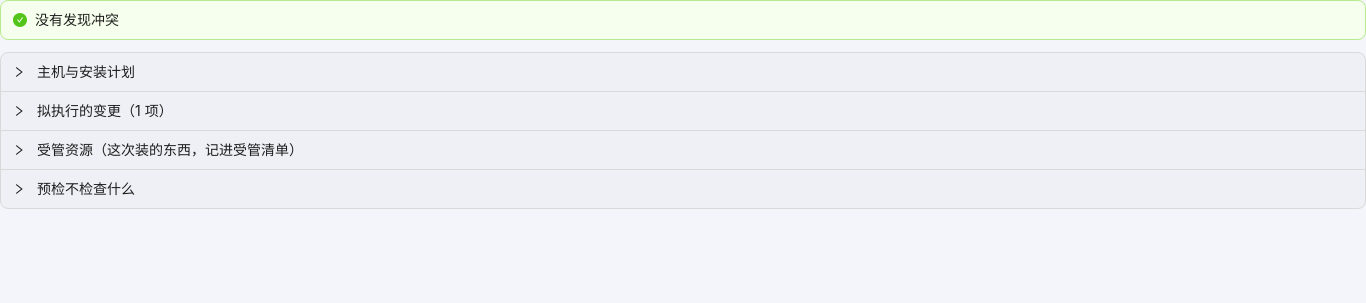
preflight file list › keeps the old list when there is nothing to compare with
Step 1. Click the button "拟执行的变更（1 项）" → (93, 110), box [13,102,173,119]
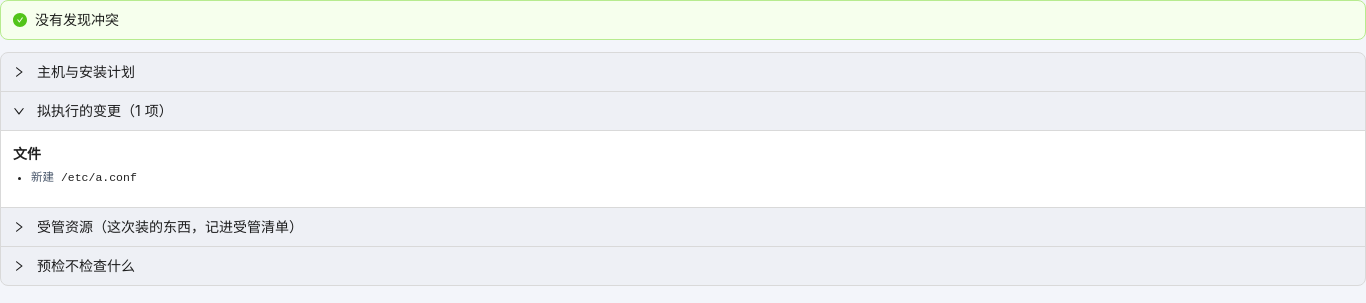
Result: the list item "新建 /etc/a.conf" is shown at [31,171,137,184]
